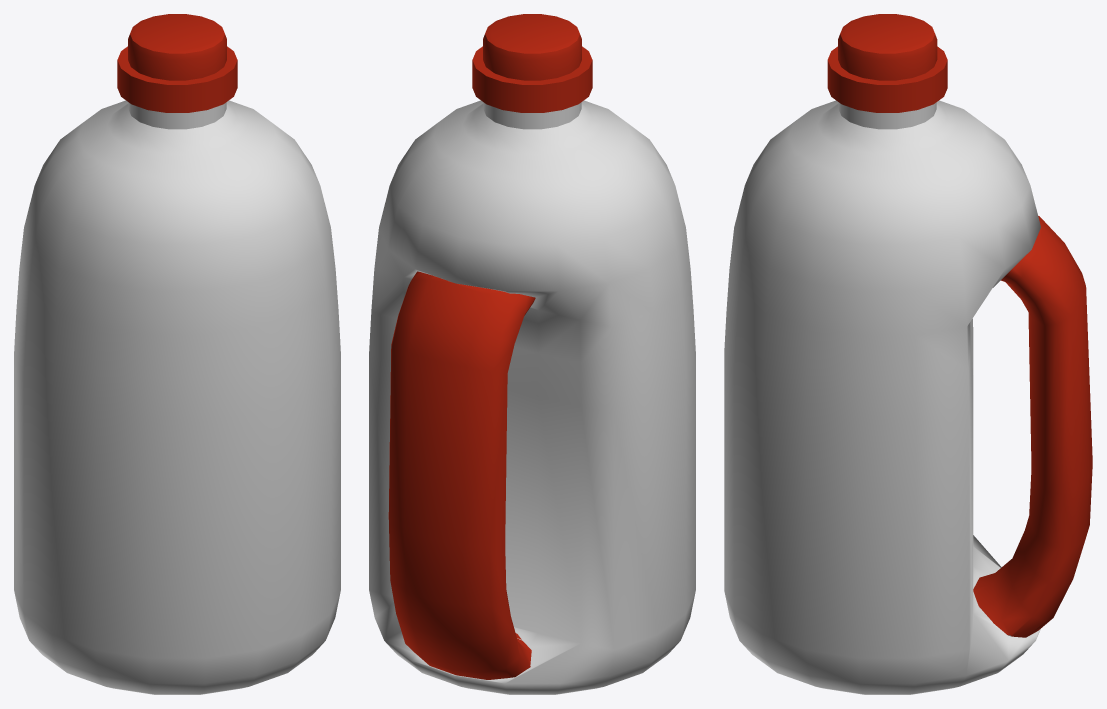
Rendered from pingzi5.fbx.
3 views of the same model, side by side, from view 1: azimuth 30°, elevation 25°; view 2: azimuth 150°, elevation 25°; view 3: azimuth 270°, elevation 25° (orthographic).
Parts seen in each view (by area): view 1: Cylinder051, Cylinder051.001; view 2: Cylinder051, Cylinder051.002, Cylinder051.001; view 3: Cylinder051, Cylinder051.002, Cylinder051.001.
Part boxes in pixels (bbox=[...]): Cylinder051: bbox=[14, 100, 340, 694]; Cylinder051.001: bbox=[117, 14, 237, 112]; Cylinder051: bbox=[369, 100, 695, 694]; Cylinder051.002: bbox=[388, 271, 535, 679]; Cylinder051.001: bbox=[472, 14, 592, 112]; Cylinder051: bbox=[724, 100, 1040, 694]; Cylinder051.002: bbox=[973, 216, 1092, 637]; Cylinder051.001: bbox=[827, 14, 947, 112].
Bounding box in the file's own units: 18.4 × 38.45 × 21.07.
